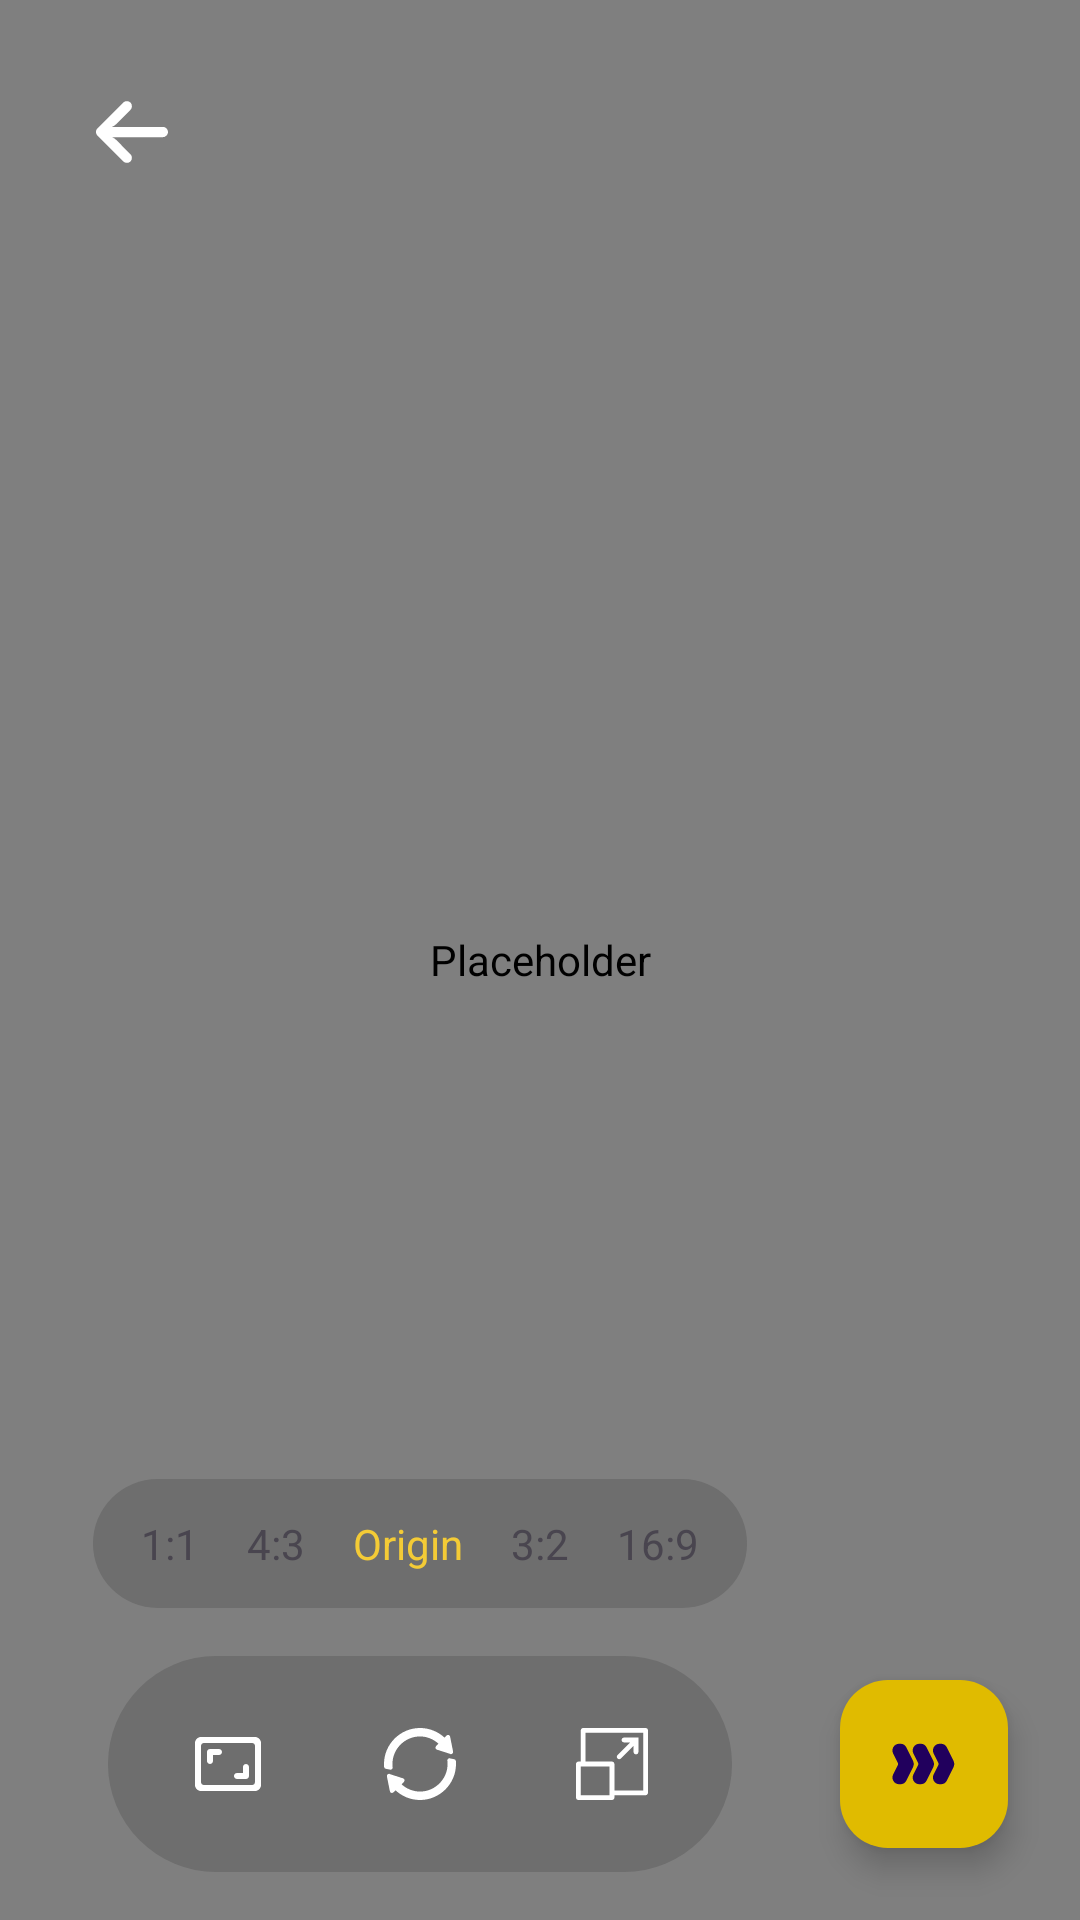

Icons on this 1080*1920 Android screen, each with the point to tap as (x,y):
aspect ratio: (228,1764)
back: (132,132)
next: (924,1764)
rotate: (420,1764)
scale: (612,1764)
